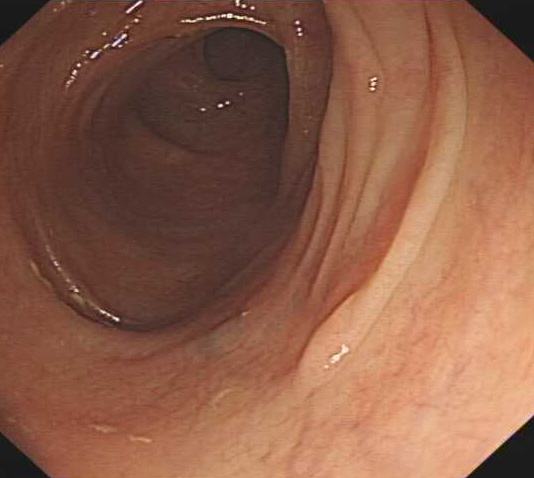others: (294, 291, 356, 383)
